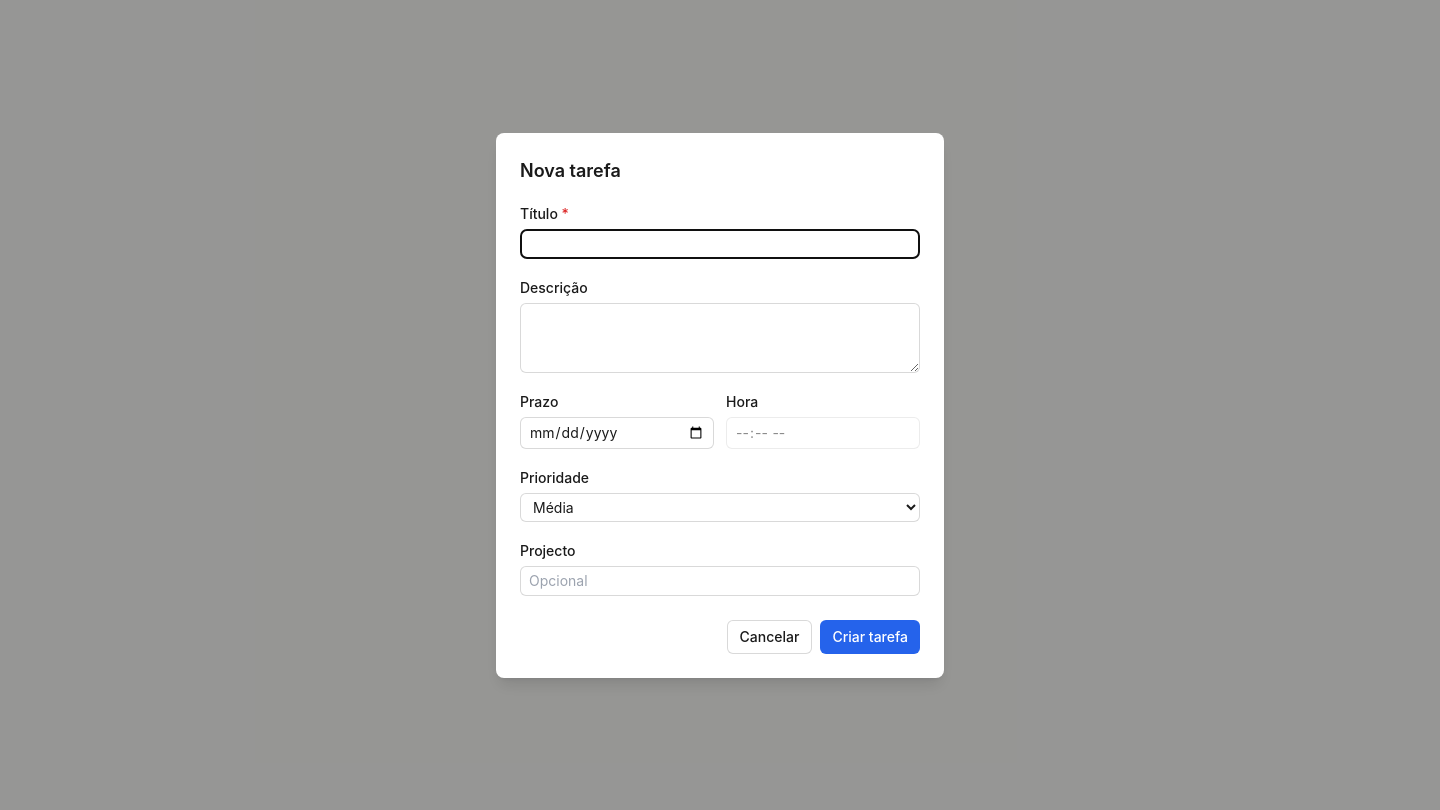
Test case: <NewTaskModal> › erro do servidor mostra alerta e não fecha
The image size is (1440, 810).
Type "X" into the field named "Título da tarefa".
click(720, 244); type("X")  # box [520,228,920,258]
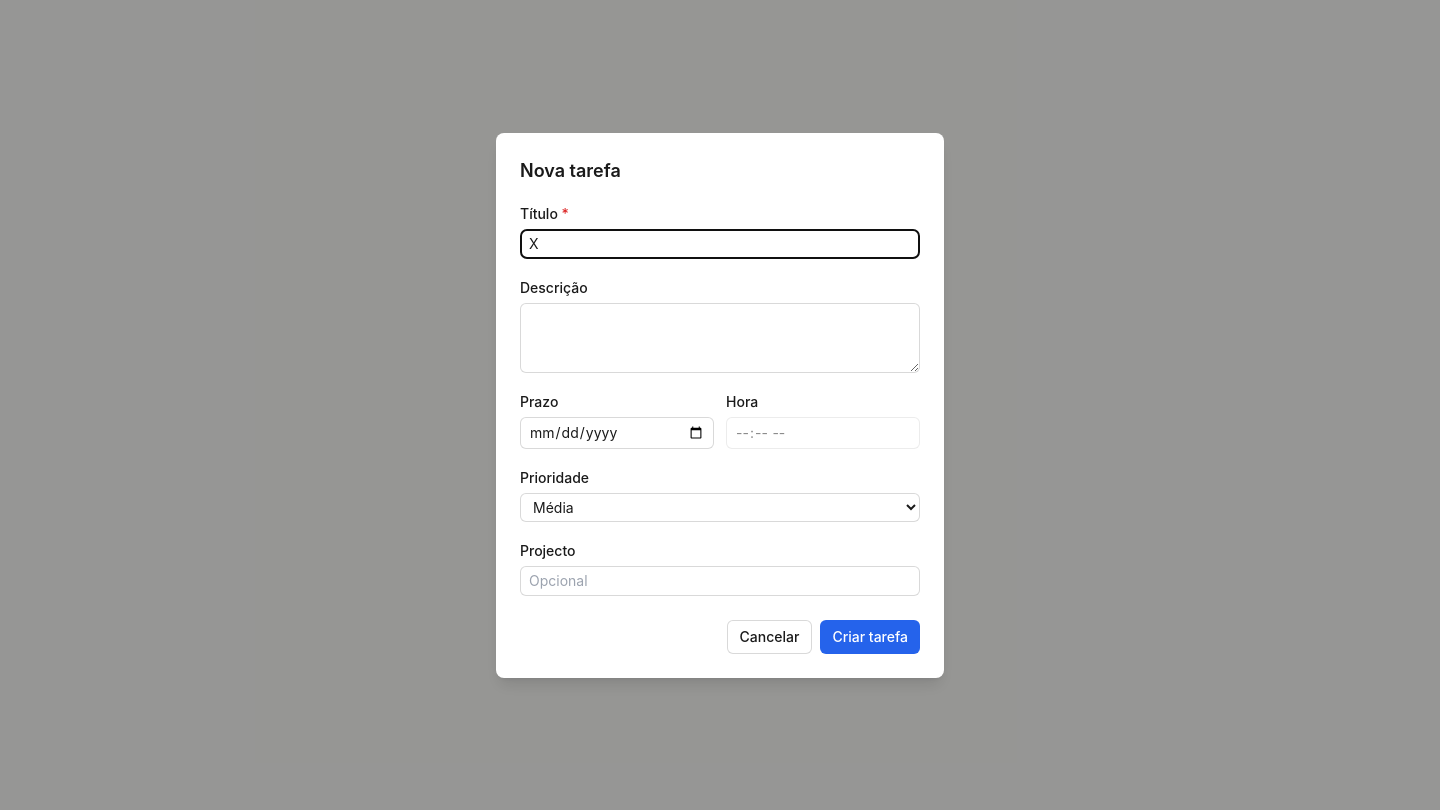
Click the button "Criar tarefa".
click(870, 636)  # box [820,620,920,654]
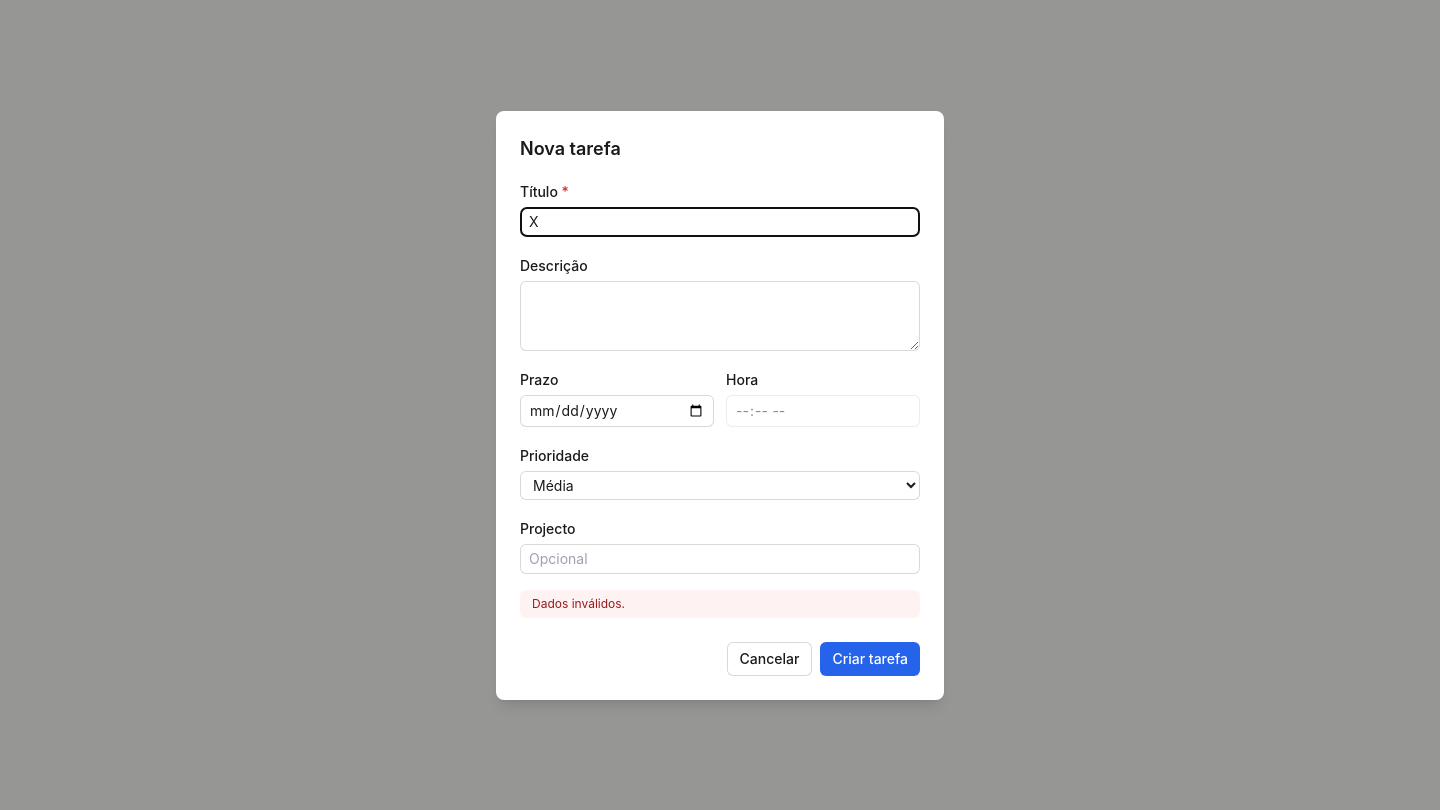
Check: the message reads "Dados inválidos.", box [532,596,625,610]
